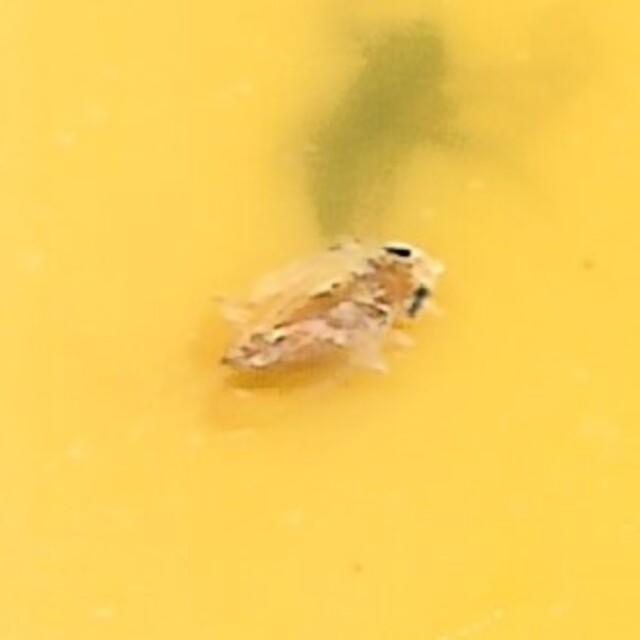Hemiptera: (194, 227, 446, 413)
